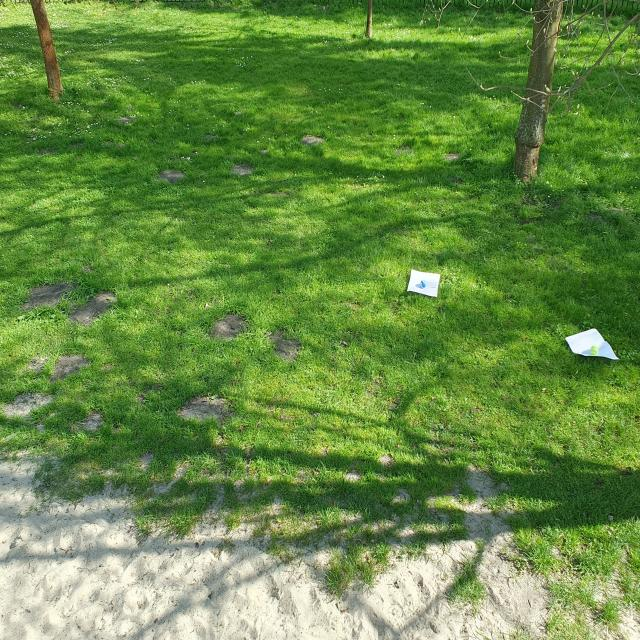blue: (420, 280, 426, 288)
green: (590, 346, 598, 355)
